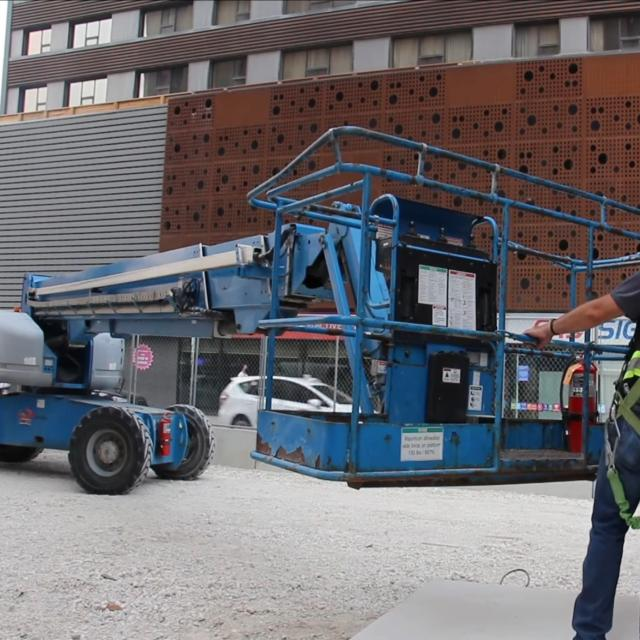2m above platform: (3, 120, 593, 499)
Belt: (614, 353, 640, 524)
